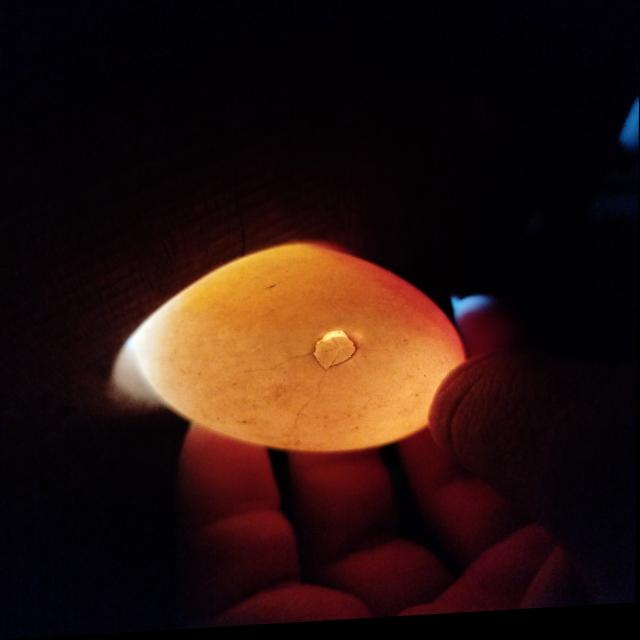Gema Quebrada: (308, 248, 467, 368)
Rachadura: (314, 334, 356, 374)
